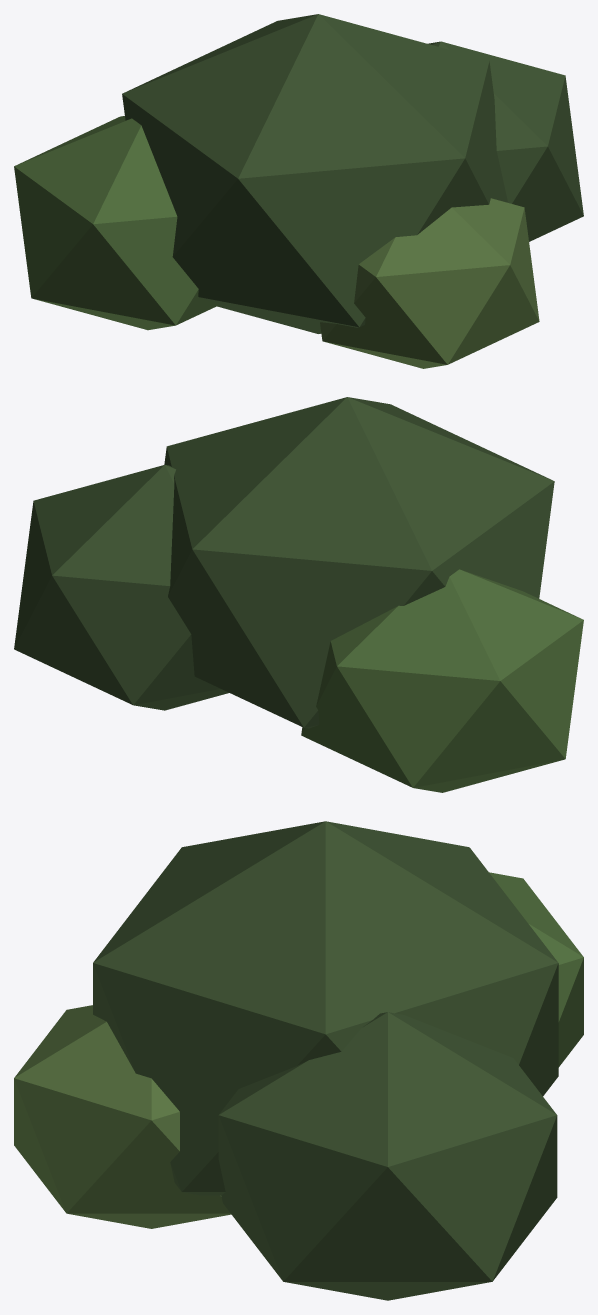
The model's file is bush.glb.
The picture shows the model from 3 angles, top to bottom: view 1: azimuth 30°, elevation 25°; view 2: azimuth 150°, elevation 25°; view 3: azimuth 270°, elevation 25°; orthographic projection. The views are drawn at different scales.
Visible parts, largest first — view 1: undergrowth, undergrowth.002, undergrowth.003, undergrowth.001; view 2: undergrowth, undergrowth.002, undergrowth.001; view 3: undergrowth, undergrowth.001, undergrowth.003, undergrowth.002.
Boxes of the visible parts, x1,y1,x2,y2 form: undergrowth: (122, 14, 507, 333); undergrowth.002: (14, 116, 219, 330); undergrowth.003: (320, 198, 539, 368); undergrowth.001: (428, 41, 583, 241); undergrowth: (164, 397, 554, 728); undergrowth.002: (301, 569, 583, 792); undergrowth.001: (14, 465, 228, 710); undergrowth: (93, 821, 558, 1195); undergrowth.001: (218, 1012, 557, 1300); undergrowth.003: (14, 1005, 231, 1228); undergrowth.002: (489, 872, 583, 1067).
Size of the model in its own units: 0.5973 by 0.352 by 0.4582.
